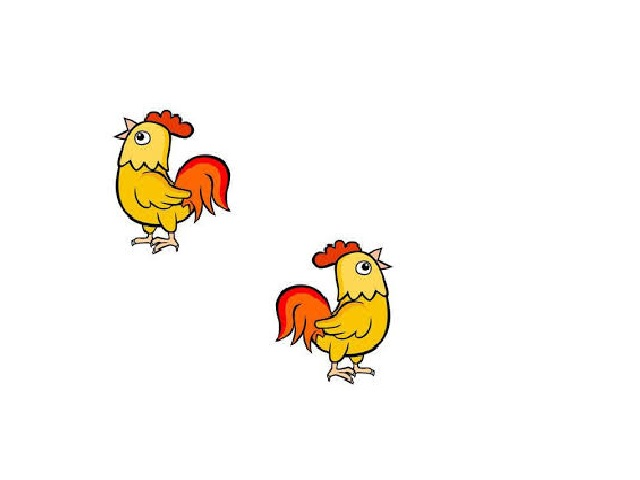crown: (148, 110, 197, 140), (311, 242, 358, 267)
eyes: (356, 260, 375, 277), (132, 131, 150, 147)
feet: (129, 228, 182, 254), (326, 362, 375, 383)
tail: (275, 283, 330, 353), (175, 154, 227, 220)
